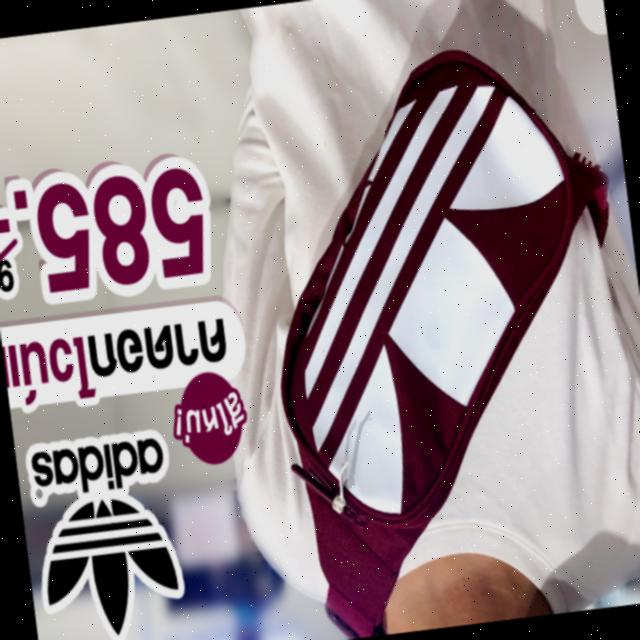Handbag: (241, 32, 634, 610)
